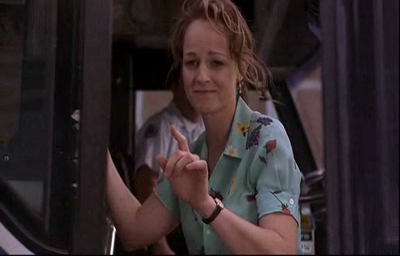face: (182, 38, 232, 112)
mcu: (1, 1, 400, 256)
person: (107, 1, 304, 254)
